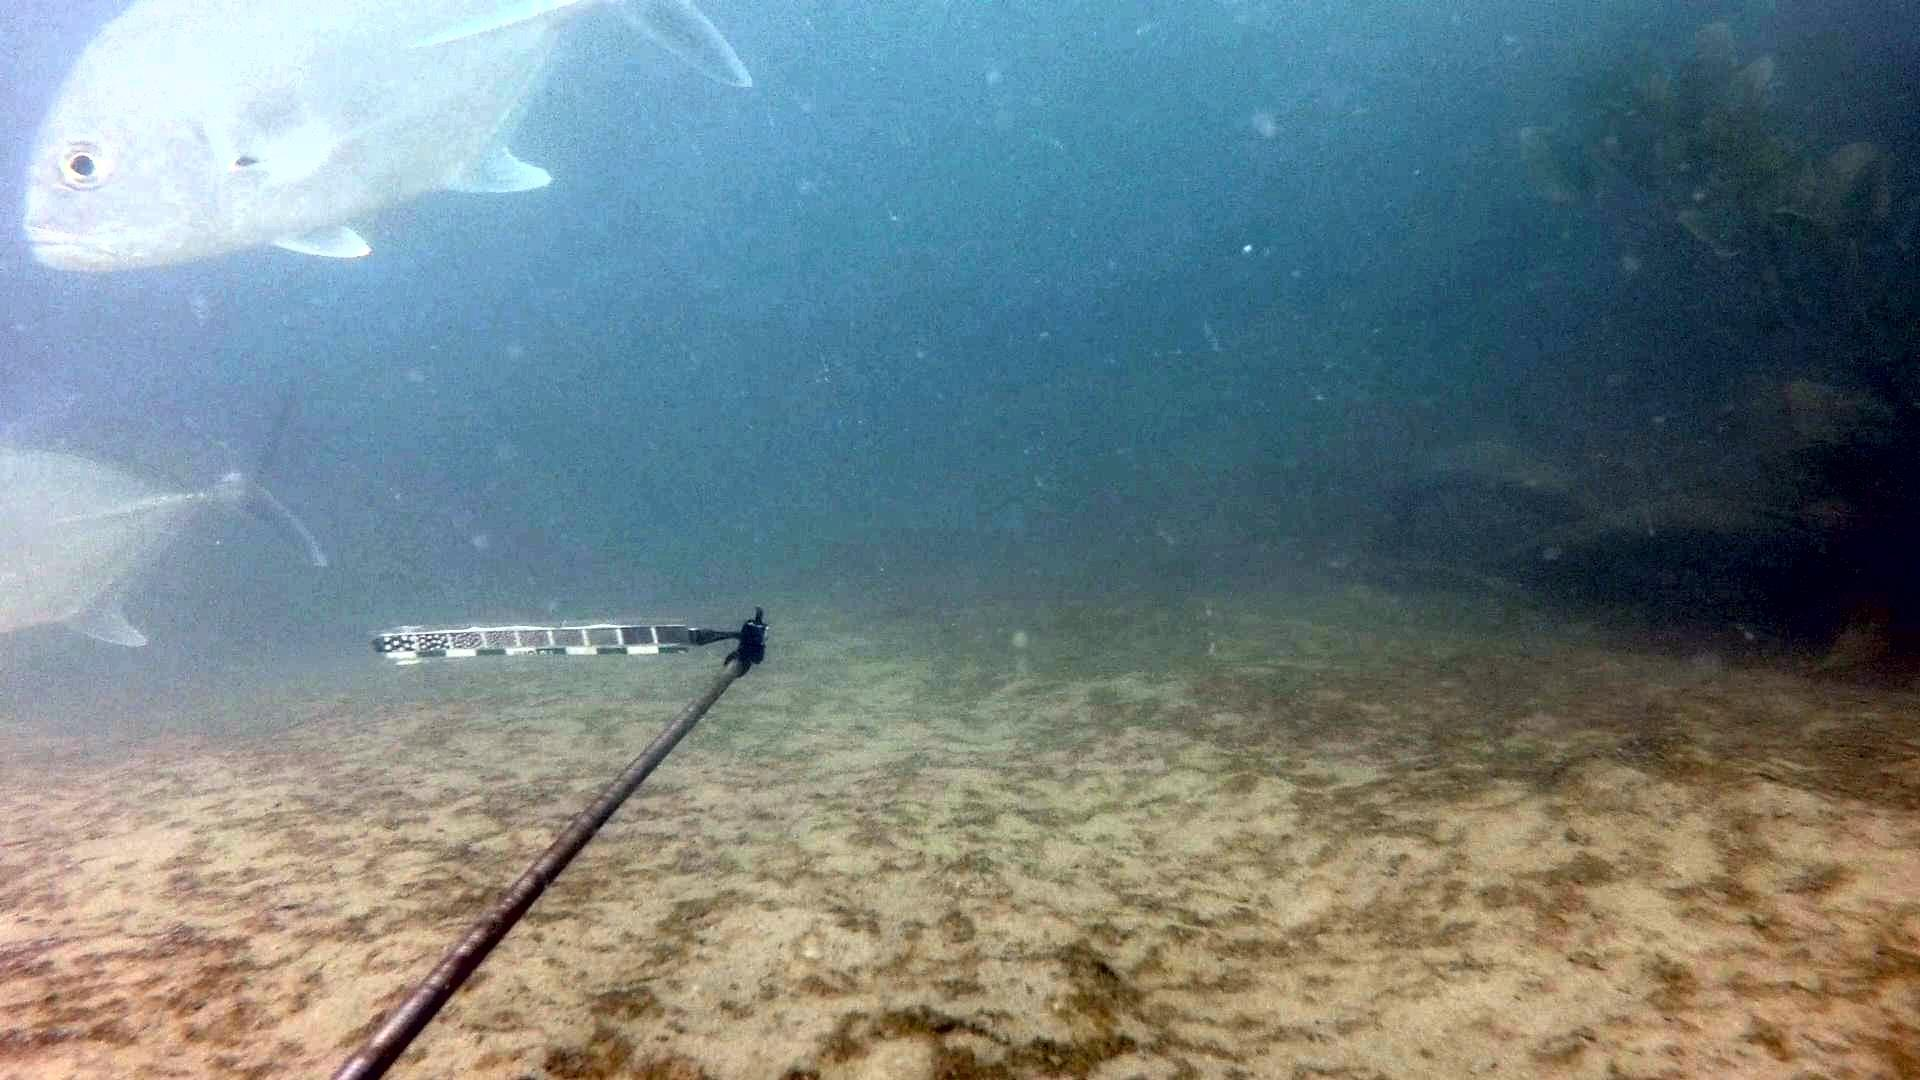caranx: (18, 0, 783, 280), (5, 385, 349, 680)
